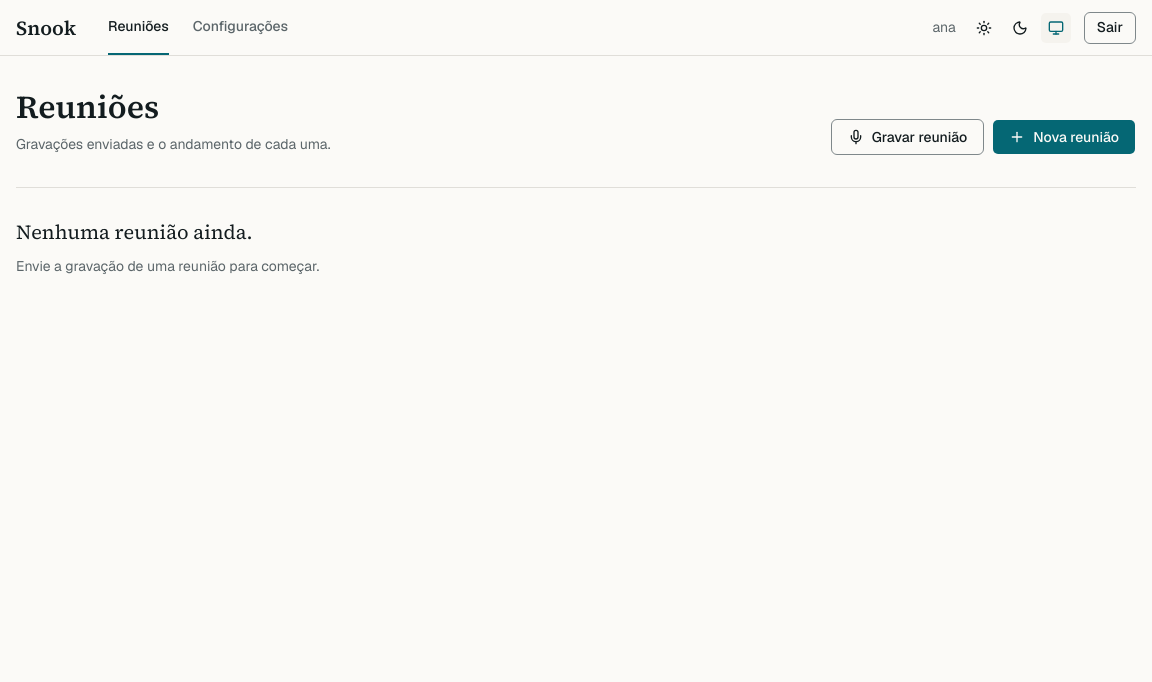
Scenario: navega entre as telas pelo layout
The width and height of the screenshot is (1152, 682).
Expected: the heading "Reuniões" is shown, [16,85,159,129]
Click the link "Configurações": (240, 26) [193,17,288,35]
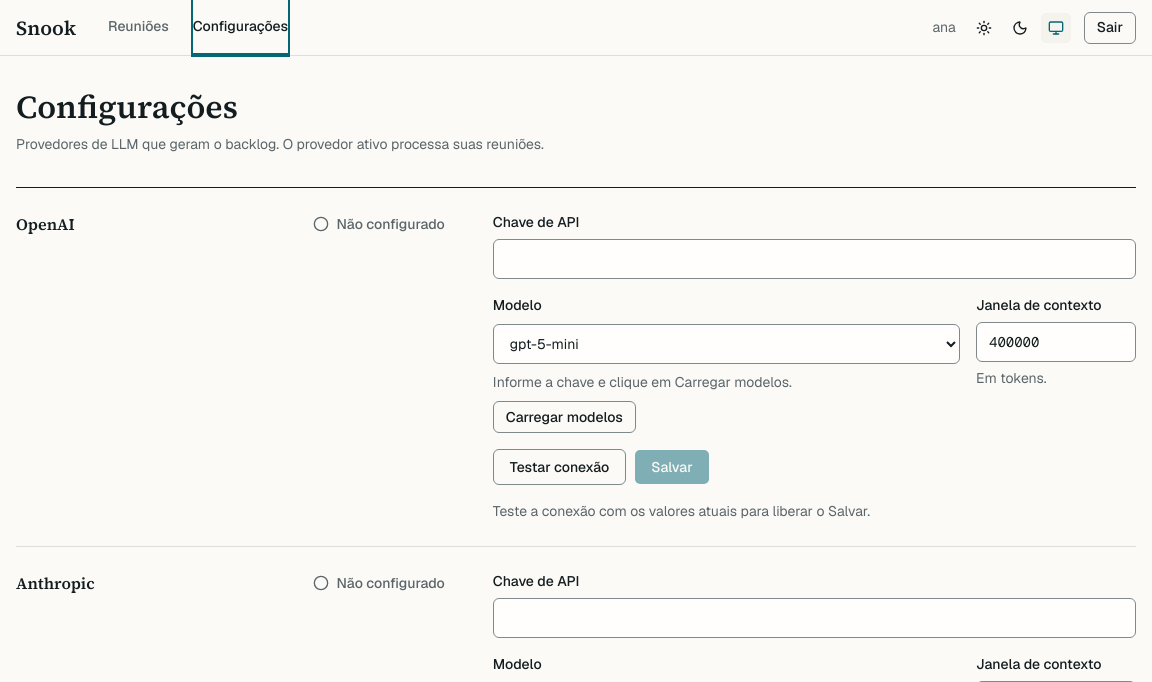
Expected: the heading "Configurações" is shown, [16,85,238,129]
